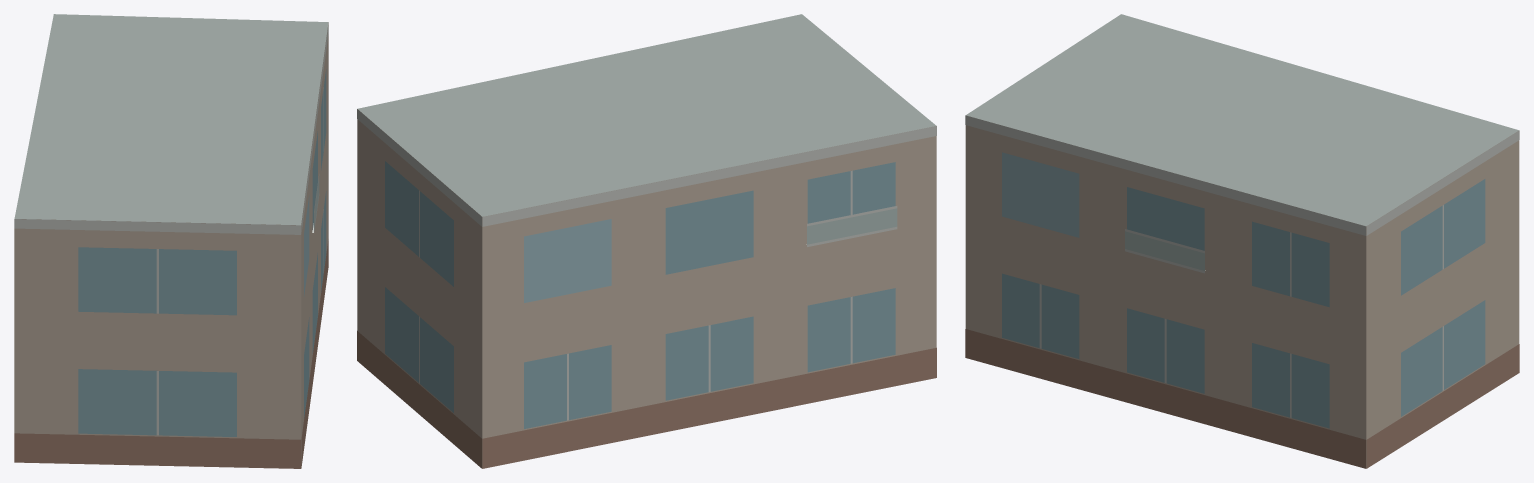
Rendered from survey-upis-32490271.glb.
3 views of the same model, side by side, from view 1: azimuth 30°, elevation 25°; view 2: azimuth 150°, elevation 25°; view 3: azimuth 270°, elevation 25° (orthographic). The views are drawn at different scales.
Parts seen in each view (by area): view 1: survey-upis-32490271.tmp; view 2: survey-upis-32490271.tmp; view 3: survey-upis-32490271.tmp.
Part boxes in pixels (bbox=[...]): survey-upis-32490271.tmp: bbox=[14, 14, 328, 468]; survey-upis-32490271.tmp: bbox=[357, 14, 936, 468]; survey-upis-32490271.tmp: bbox=[965, 14, 1519, 468].
Size of the model in its own units: 11.47 by 6.1 by 12.64.
